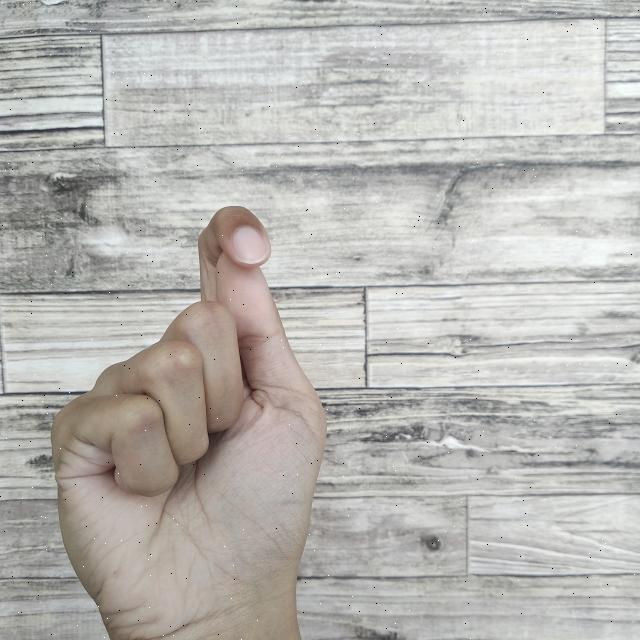T: (47, 201, 335, 640)
